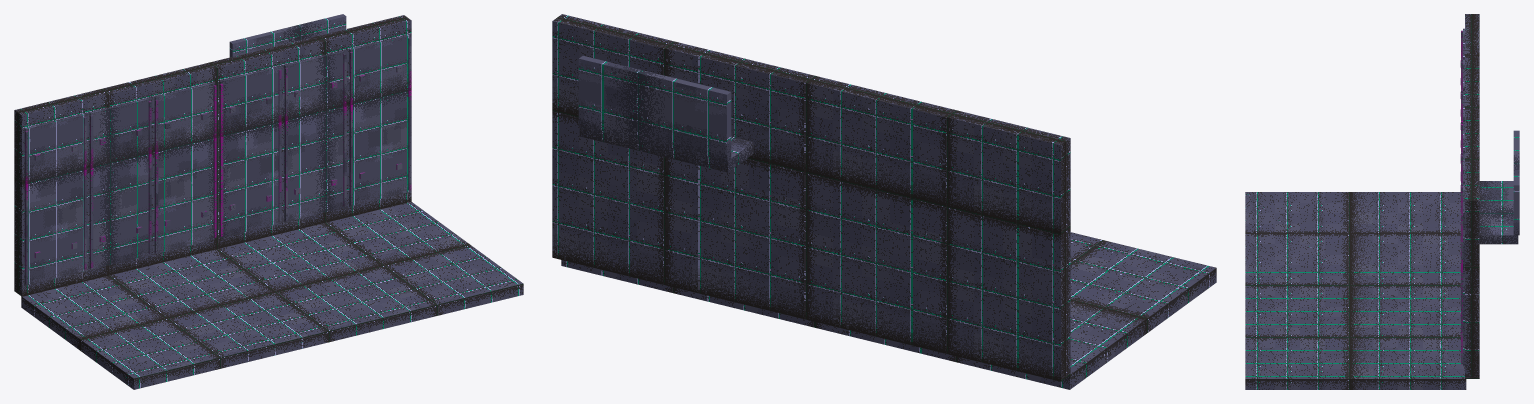
Rendered from secret_unreachable_space.glb.
3 renders of one model, left to right at view 1: azimuth 30°, elevation 25°; view 2: azimuth 150°, elevation 25°; view 3: azimuth 270°, elevation 25°, orthographic. The views are drawn at different scales.
Parts seen in each view (by area): view 1: secret_unreachable_space; view 2: secret_unreachable_space; view 3: secret_unreachable_space.
Part boxes in pixels (x1,y1,x2,y2): secret_unreachable_space: (14,14,523,389); secret_unreachable_space: (552,14,1216,389); secret_unreachable_space: (1245,14,1519,389).
Bounding box in the file's own units: 7.2 × 3.4 × 4.47.
Materials: 5 (4 with a texture image).
